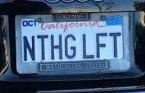F: (95, 32, 108, 59)
G: (64, 34, 77, 59)
H: (50, 33, 63, 60)
L: (82, 33, 95, 59)
N: (23, 35, 36, 61)
T: (109, 32, 122, 58), (36, 34, 48, 61)
